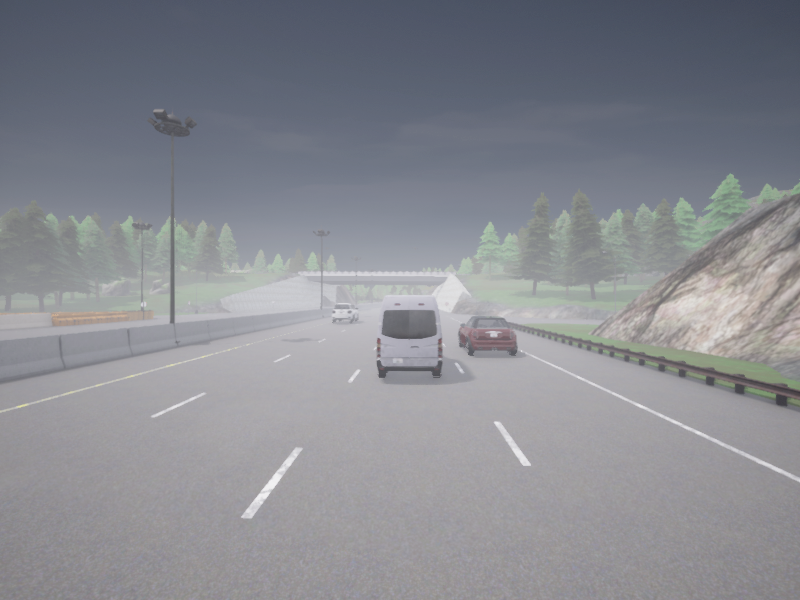vehicle: (376, 295, 442, 376), (458, 316, 517, 355), (332, 303, 358, 322)
